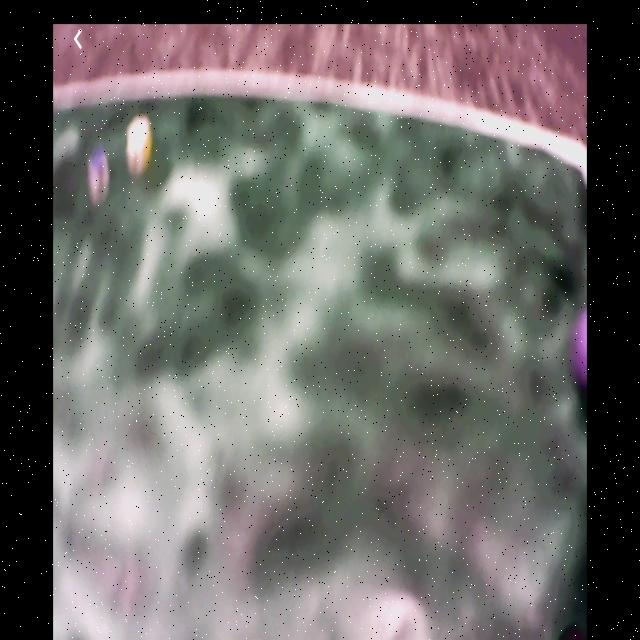ball: (574, 308, 589, 388)
